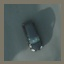car: (22, 23, 44, 54)
